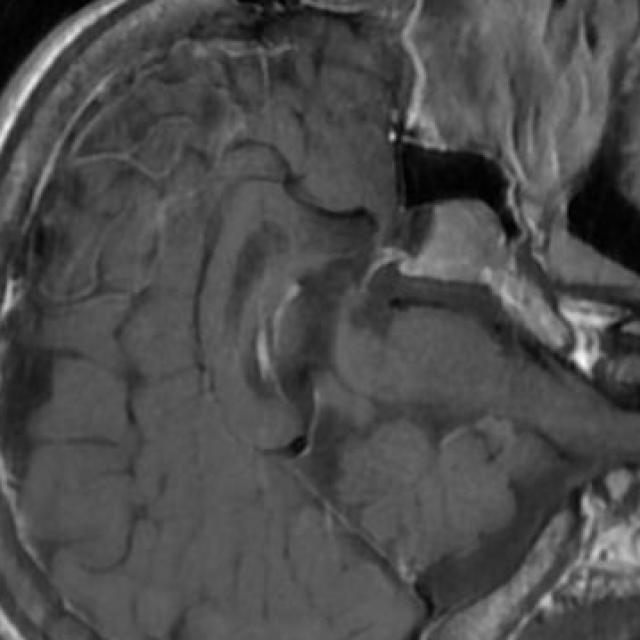pituitary: (401, 200, 506, 285)
